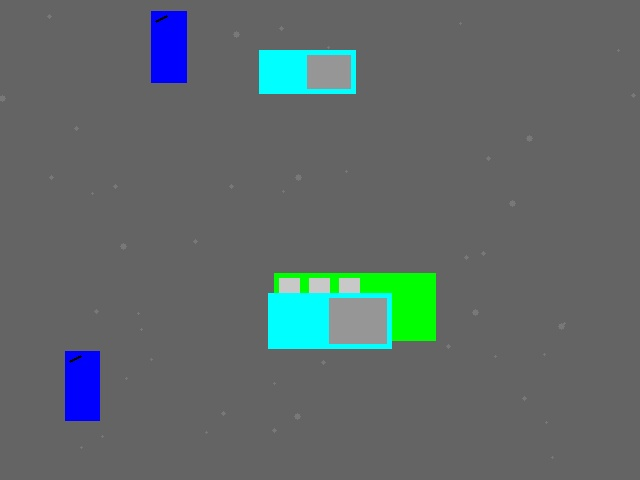bus: (274, 273, 435, 340)
motorcycle: (151, 11, 186, 82), (65, 351, 99, 420)
truck: (268, 293, 391, 348), (259, 50, 355, 93)
